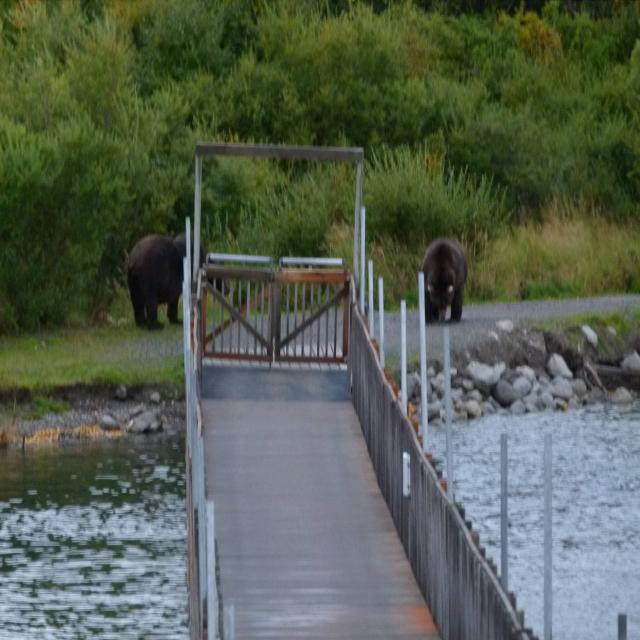bear face: (124, 231, 200, 325), (424, 240, 465, 319)
